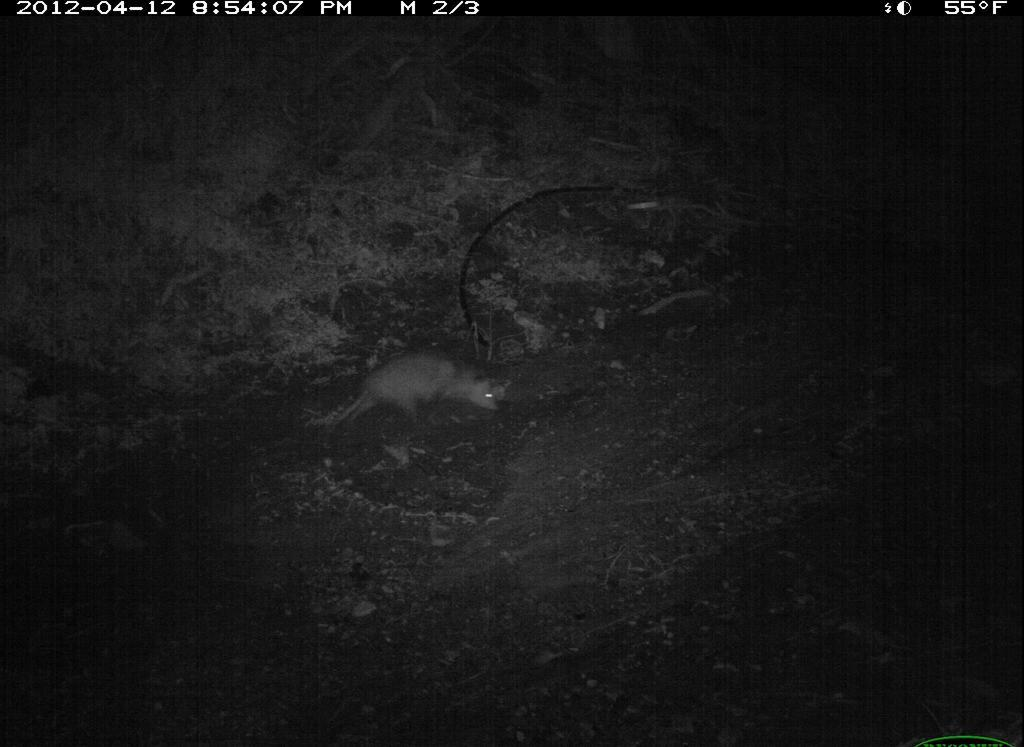opossum: (312, 350, 519, 454)
